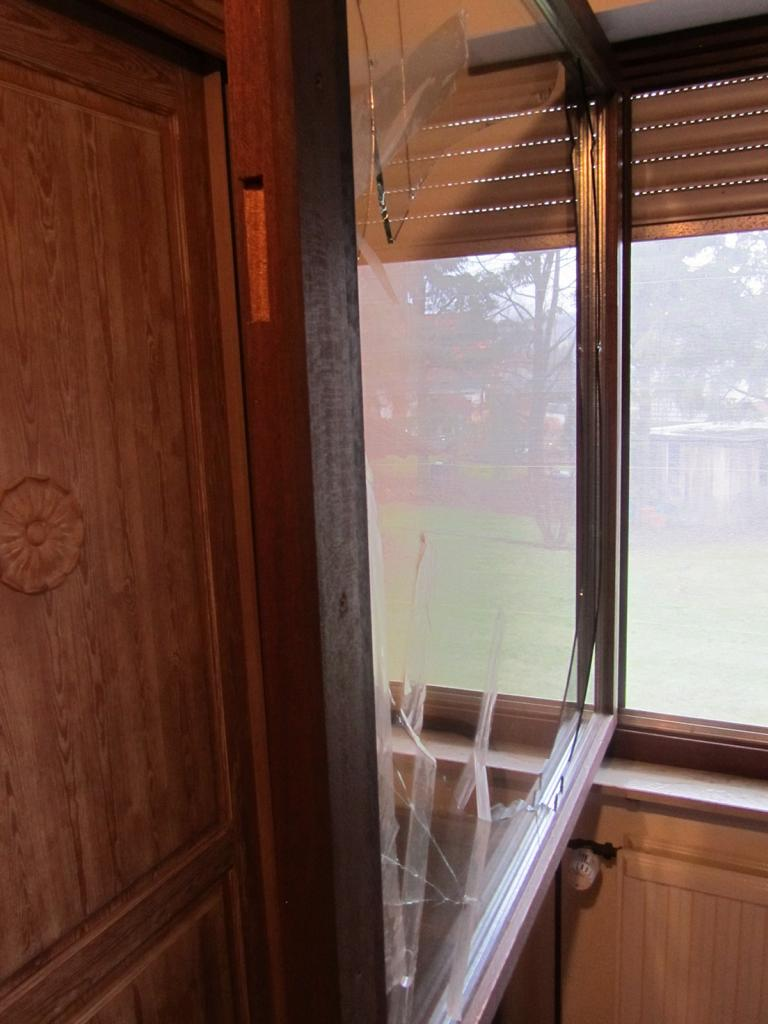windows: (340, 11, 631, 1024)
